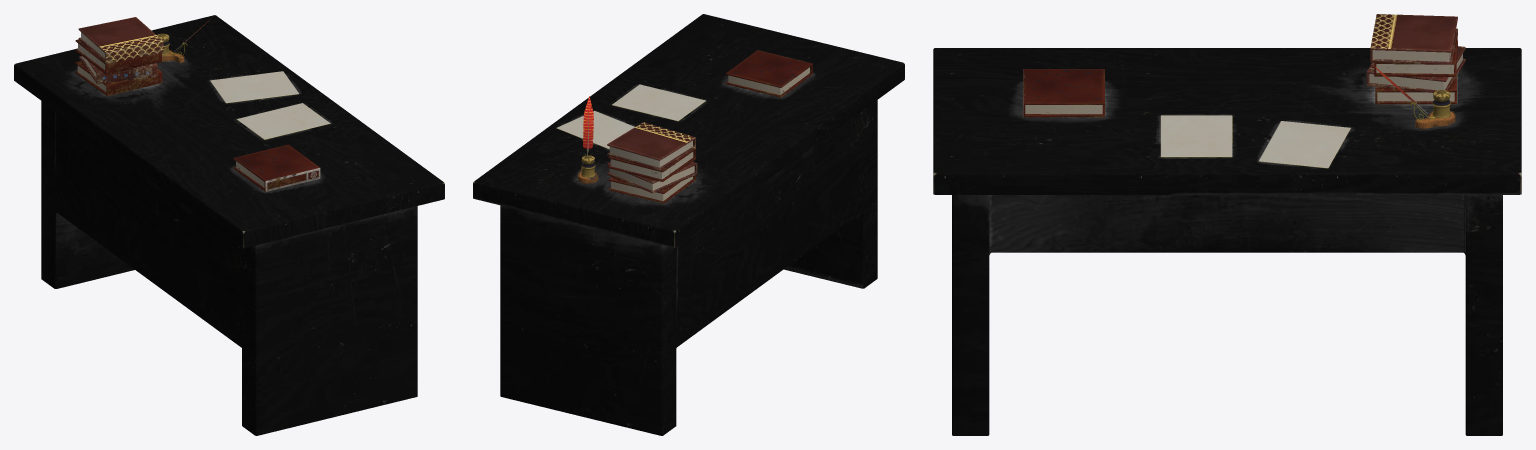
File: desk.glb
The picture shows the model from 3 angles, left to right: view 1: azimuth 30°, elevation 25°; view 2: azimuth 150°, elevation 25°; view 3: azimuth 270°, elevation 25°; orthographic projection. The views are drawn at different scales.
Parts seen in each view (by area): view 1: table_legs, book.003; view 2: table_legs, book.003; view 3: table_legs, book.003.
Part boxes in pixels (x1,y1,x2,y2): table_legs: (14, 15, 444, 435); book.003: (75, 15, 330, 191); table_legs: (473, 14, 904, 435); book.003: (556, 50, 812, 203); table_legs: (933, 48, 1521, 435); book.003: (1023, 14, 1465, 168).
Size of the model in its own units: 0.2672 by 0.3434 by 0.526.
Materials: 2 (2 with a texture image).
